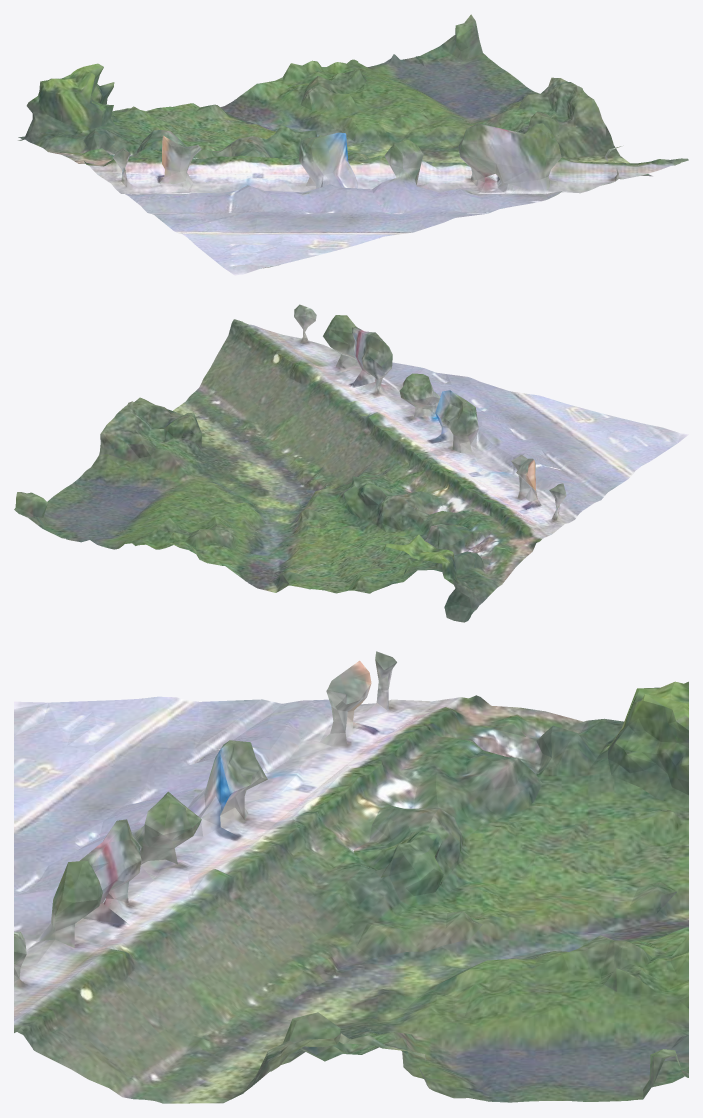
The model's file is Tile_+000_+001_L20_000000t1.glb.
The picture shows the model from 3 angles, top to bottom: view 1: azimuth 30°, elevation 25°; view 2: azimuth 150°, elevation 25°; view 3: azimuth 270°, elevation 25°; orthographic projection. The views are drawn at different scales.
Parts seen in each view (by area): view 1: rtc; view 2: rtc; view 3: rtc.
Boxes of the visible parts, x1,y1,x2,y2 form: rtc: (18, 14, 688, 275); rtc: (14, 304, 688, 622); rtc: (14, 651, 688, 1103).
Bounding box in the file's own units: 30.48 × 6.61 × 25.69.
1 material, 1 textured.
